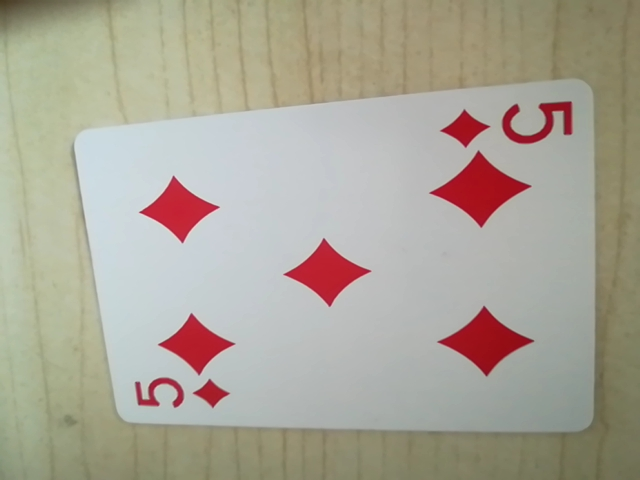fk 5: (439, 92, 577, 155), (127, 369, 237, 418)
